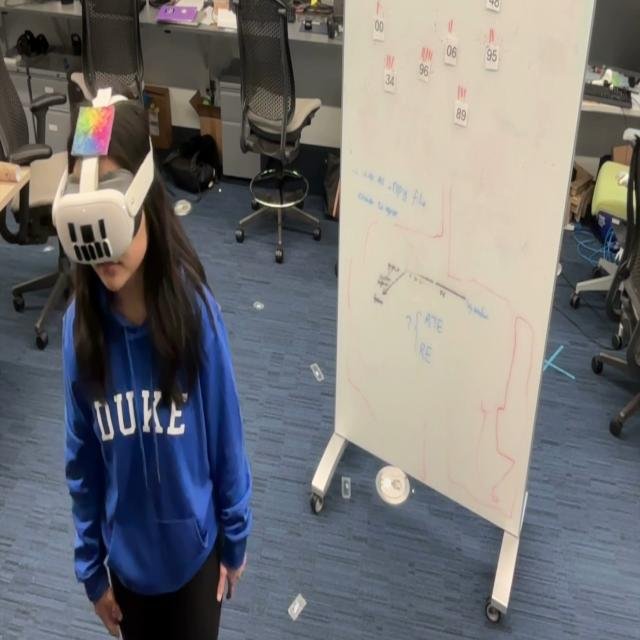Headset: (52, 99, 154, 266)
Marker: (70, 101, 116, 159)
